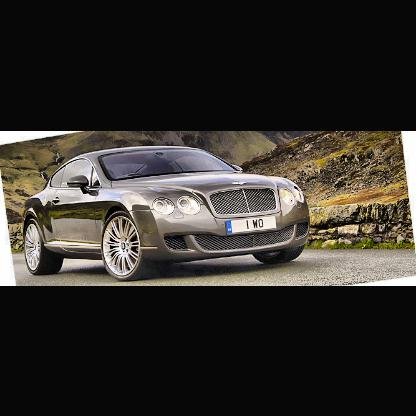Bentley Continental GT Coupe 2007: (25, 146, 311, 281)
